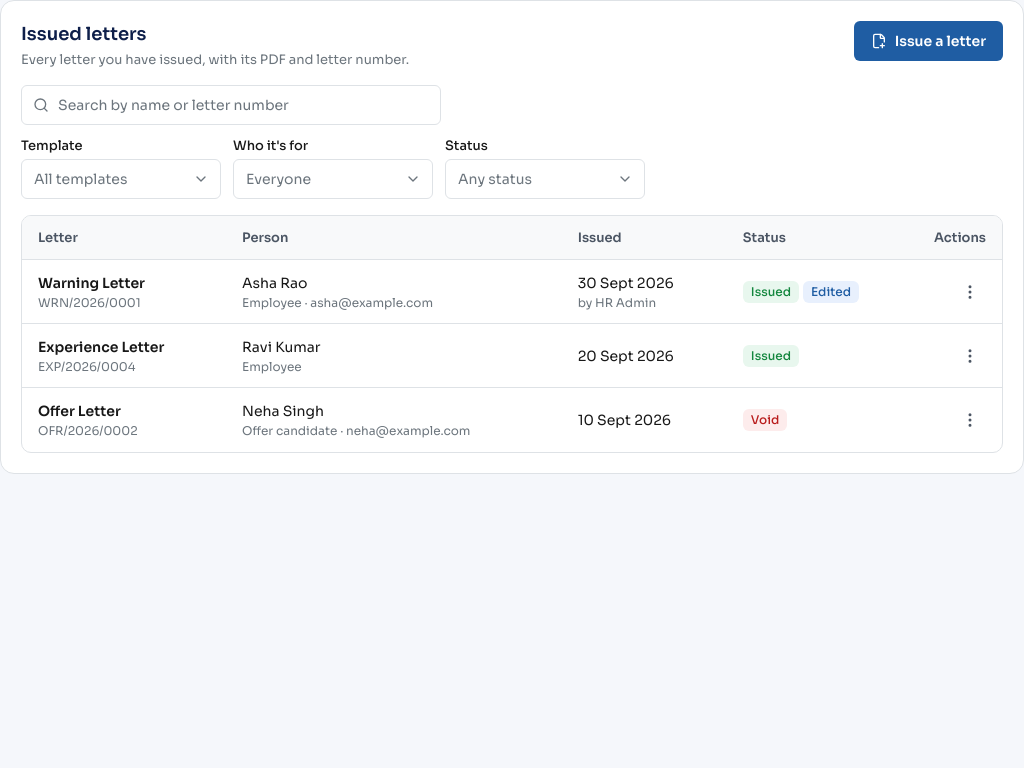
Test: reports download failures
Expected: the text "WRN/2026/0001" is shown, top-left (38, 294), bottom-right (141, 310)
Step 1. Click the button named "Actions for WRN/2026/0001 · Asha Rao" → (970,292), box top-left (954, 276), bottom-right (986, 308)
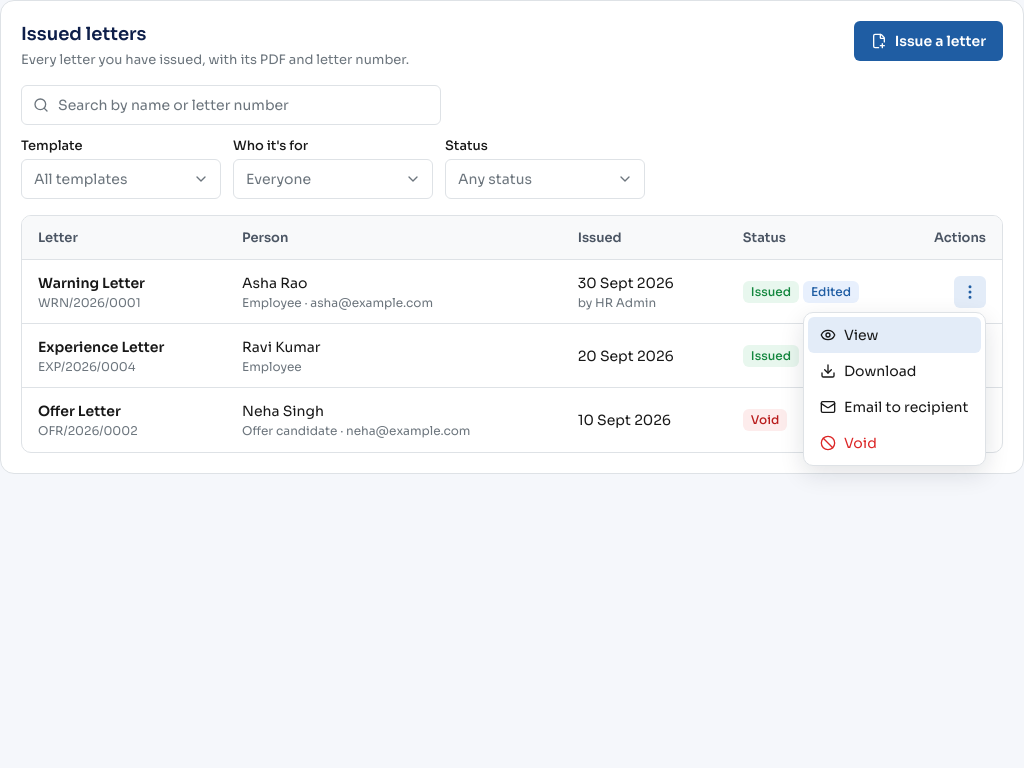
Step 2. Click the menu item "Download" → (894,370), box top-left (808, 352), bottom-right (980, 388)
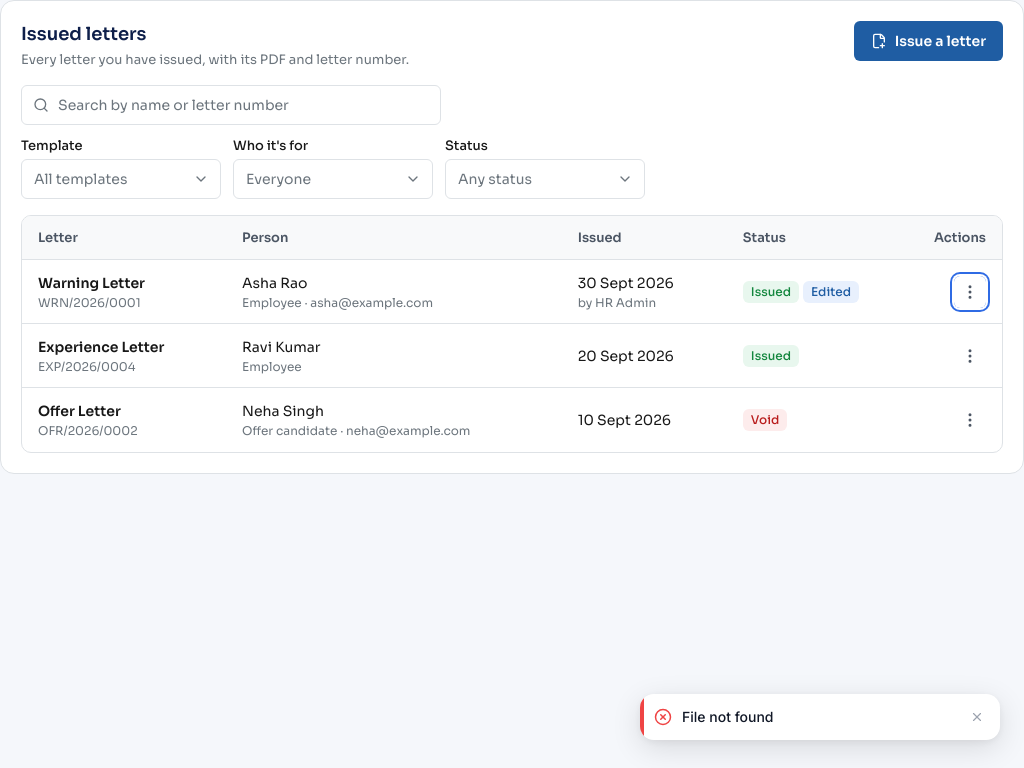
Result: the text "File not found" is shown at top-left (682, 708), bottom-right (774, 725)
